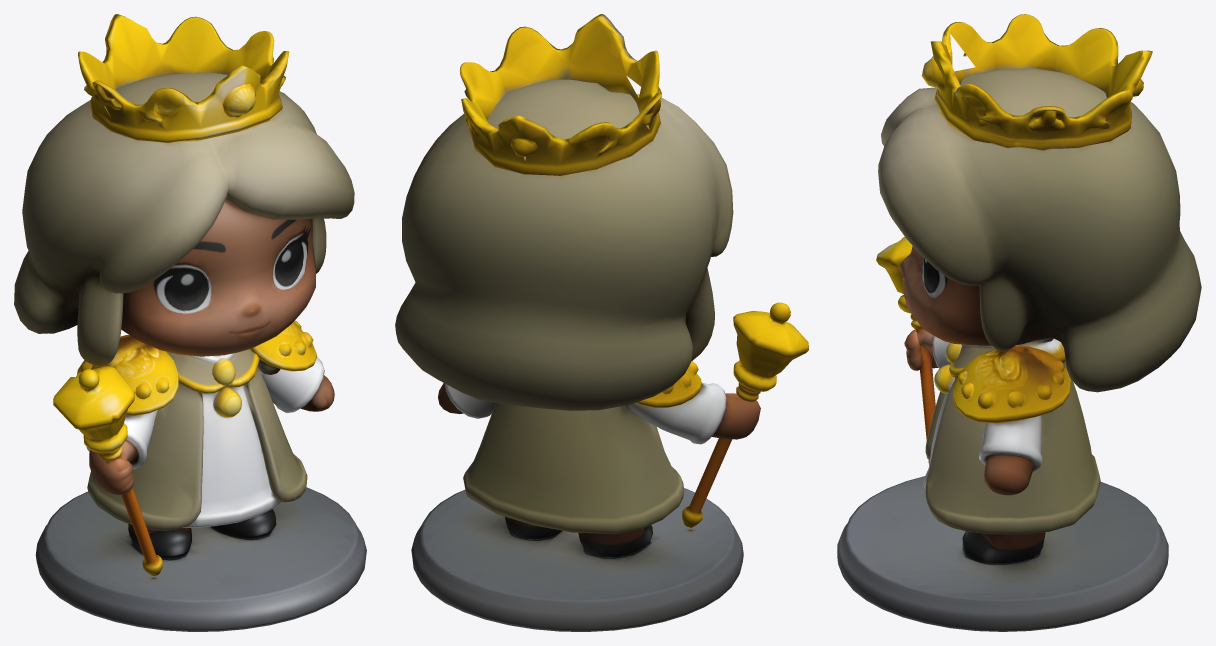
The model's file is brunei-queen.glb.
The picture shows the model from 3 angles, left to right: view 1: azimuth 30°, elevation 25°; view 2: azimuth 150°, elevation 25°; view 3: azimuth 270°, elevation 25°; orthographic projection.
Visible parts, largest first — view 1: tripo_77f9dfb9_dfd0_4bec_bbe6_748db23b7847; view 2: tripo_77f9dfb9_dfd0_4bec_bbe6_748db23b7847; view 3: tripo_77f9dfb9_dfd0_4bec_bbe6_748db23b7847.
Boxes of the visible parts, bbox=[...] form: tripo_77f9dfb9_dfd0_4bec_bbe6_748db23b7847: bbox=[14, 14, 366, 631]; tripo_77f9dfb9_dfd0_4bec_bbe6_748db23b7847: bbox=[395, 14, 808, 631]; tripo_77f9dfb9_dfd0_4bec_bbe6_748db23b7847: bbox=[837, 14, 1201, 631].
Bounding box in the file's own units: 0.6567 × 0.9995 × 0.6284.
1 material, 1 textured.
